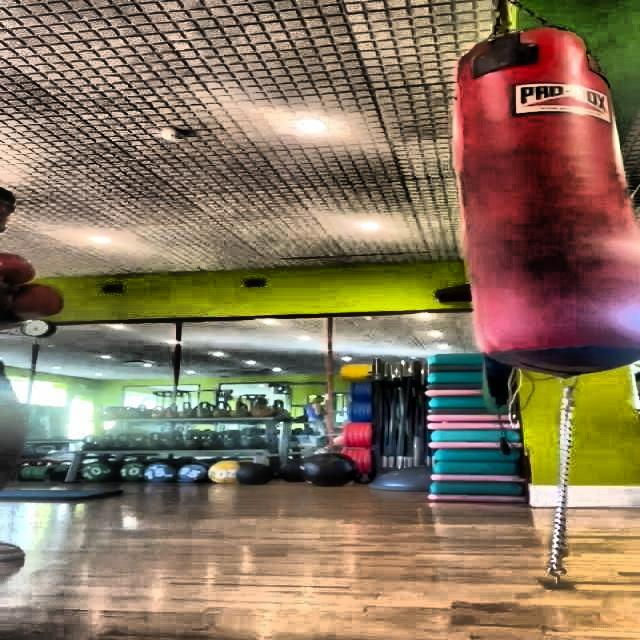boxing-bag: (458, 6, 638, 382)
